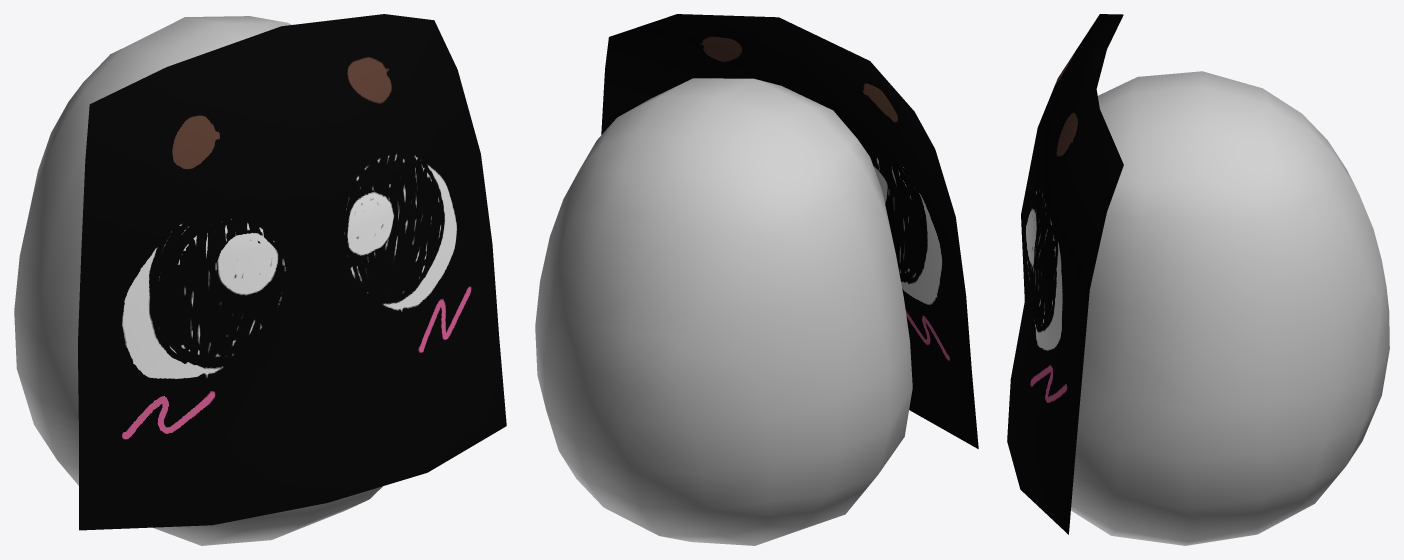
Rendered from SM_bean.fbx.
3 renders of one model, left to right at view 1: azimuth 30°, elevation 25°; view 2: azimuth 150°, elevation 25°; view 3: azimuth 270°, elevation 25°, orthographic. The views are drawn at different scales.
Parts seen in each view (by area): view 1: bean_low1, bean_low; view 2: bean_low, bean_low1; view 3: bean_low, bean_low1.
Boxes of the visible parts, <box> form: bean_low1: <box>77,14,506,530</box>; bean_low: <box>14,16,382,545</box>; bean_low: <box>535,78,912,545</box>; bean_low1: <box>601,14,978,448</box>; bean_low: <box>1071,71,1389,545</box>; bean_low1: <box>1007,14,1123,534</box>.
Bounding box in the file's own units: 13.12 × 15.63 × 11.36.
